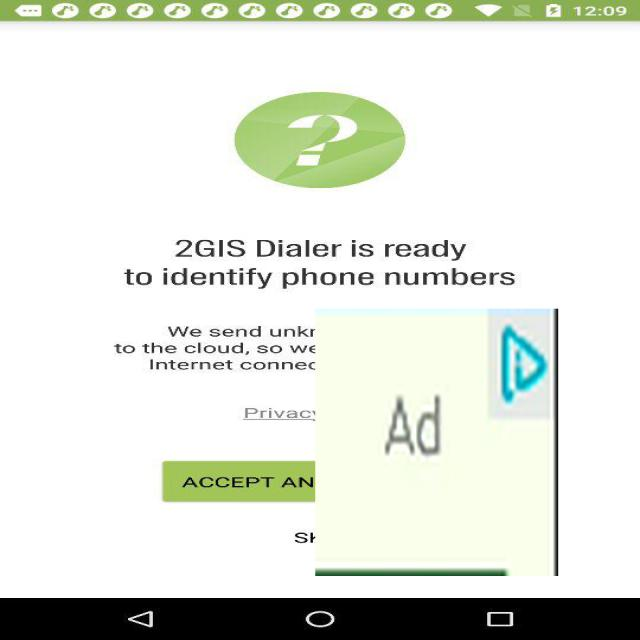sneaking: (315, 309, 558, 576)
